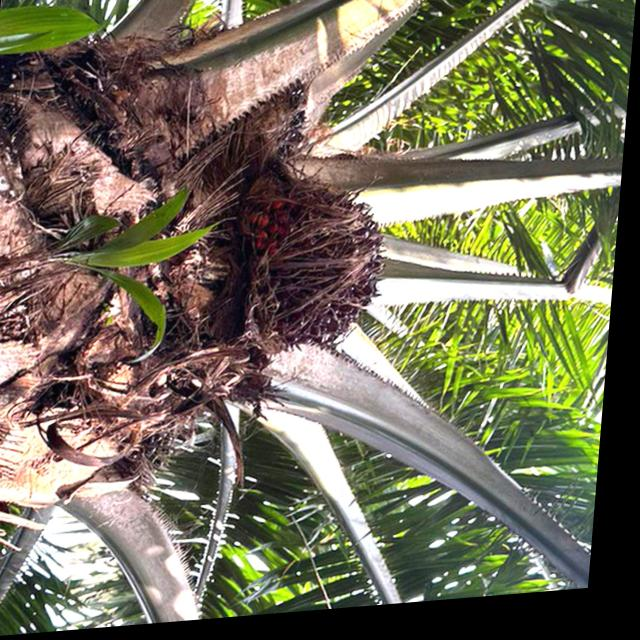almost: (239, 174, 403, 368)
